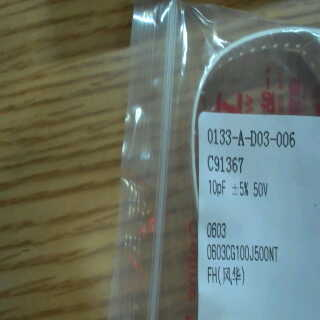10pF: (207, 177, 228, 201)
